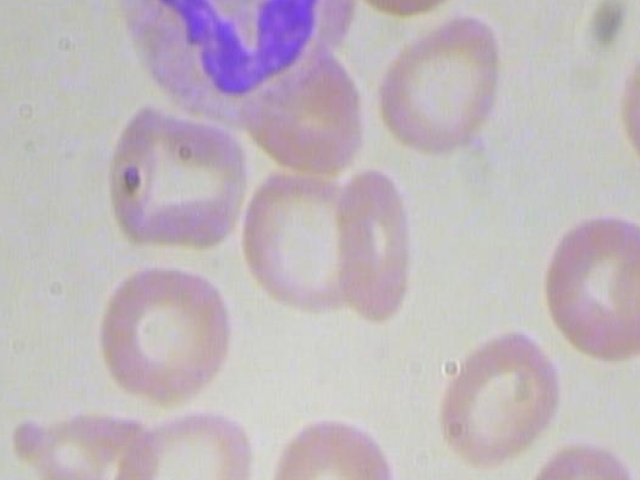RBC: (104, 98, 257, 258), (364, 4, 507, 159), (423, 312, 566, 467), (93, 257, 235, 412), (243, 165, 386, 318), (538, 208, 640, 363), (325, 163, 417, 325), (10, 396, 161, 480), (105, 402, 264, 480), (266, 417, 399, 480), (520, 435, 640, 480), (326, 0, 470, 21)
WBC: (90, 0, 358, 139)
